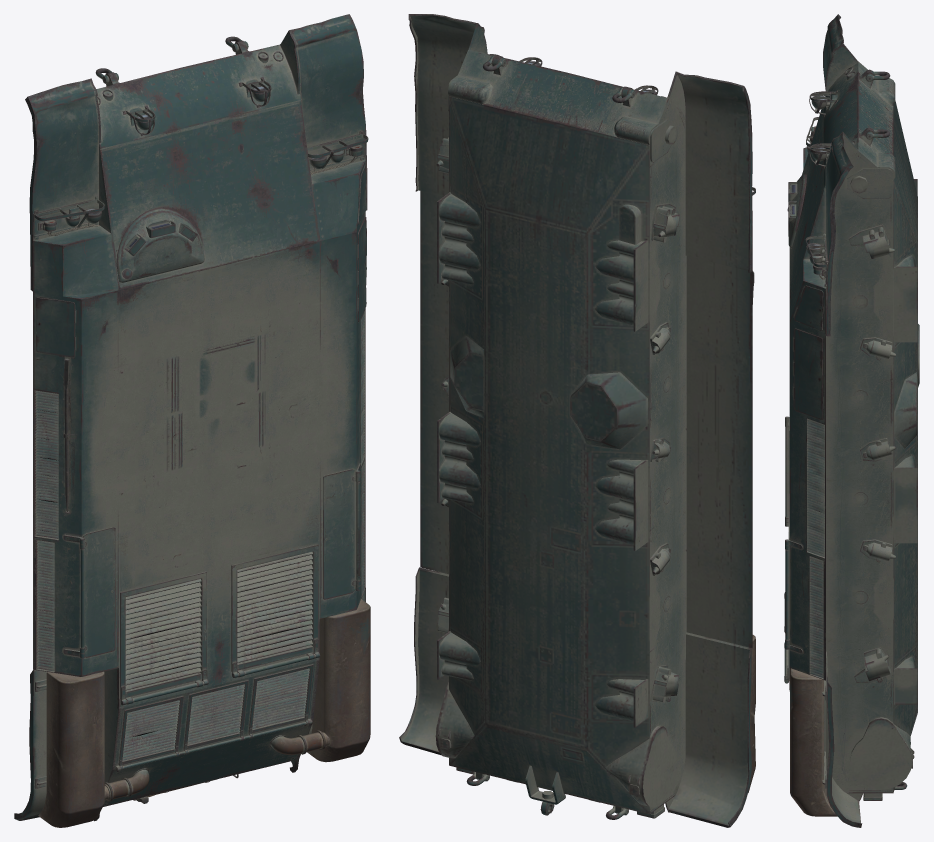
The model's file is Hull.glb.
3 views of the same model, side by side, from view 1: azimuth 30°, elevation 25°; view 2: azimuth 150°, elevation 25°; view 3: azimuth 270°, elevation 25° (orthographic). The views are drawn at different scales.
Visible parts, largest first — view 1: set_0_group_0; view 2: set_0_group_0; view 3: set_0_group_0.
Part boxes in pixels (left/top/right/bottom): set_0_group_0: left=14, top=14, right=370, bottom=827; set_0_group_0: left=399, top=14, right=755, bottom=827; set_0_group_0: left=784, top=14, right=919, bottom=827.
Size of the model in its own units: 3.12 by 6.63 by 1.19.
Materials: 1 (1 with a texture image).
